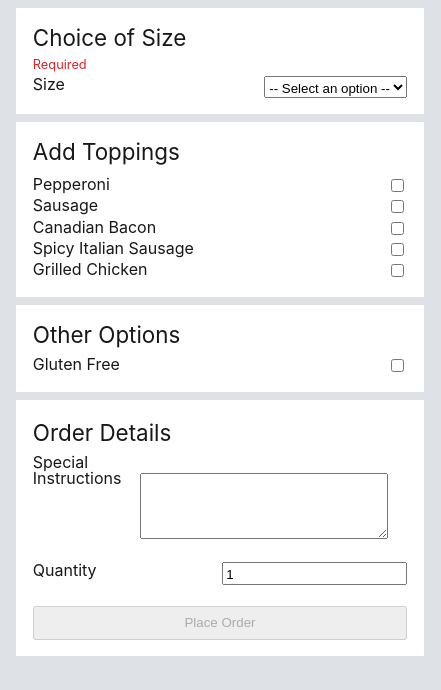
Test: Order Form › Validating form input › should not allow quantity less than 1
(page scrolled)
Replace the text in the number field named "quantity" with "0": (315, 573) x1=222 y1=562 x2=407 y2=584
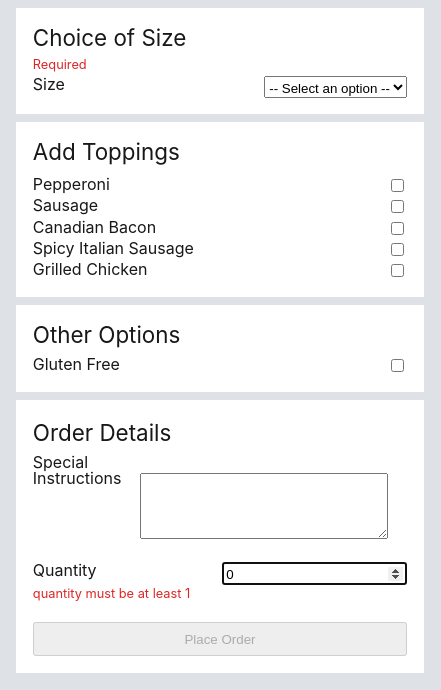
Check: the text with id "errors-quantity" reads "quantity must be at least 1", box x1=33 y1=584 x2=191 y2=601
